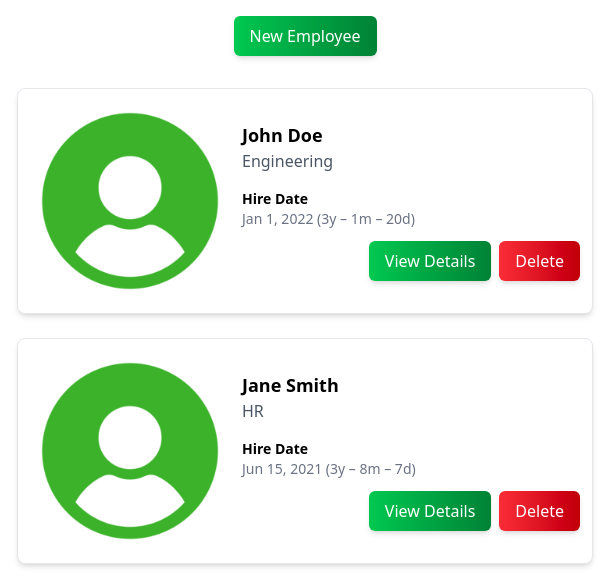
Scenario: App › deletes an employee when delete is clicked
The width and height of the screenshot is (611, 585).
Click the button "Delete" below "Jan 1, 2022".
click(540, 261)  # box [499,241,580,281]
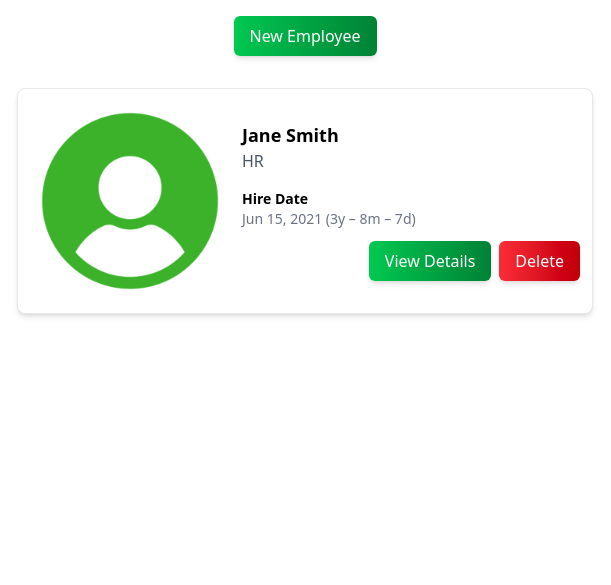
Result: the heading "John Doe" is gone
